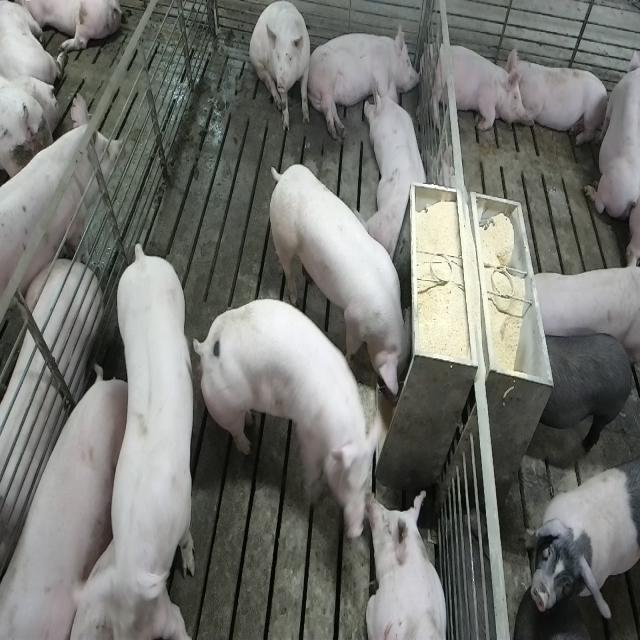Feeding: (194, 297, 383, 546), (272, 161, 420, 401)
Lateral_lying: (0, 261, 98, 607), (307, 21, 422, 142)
Sitting: (250, 1, 312, 134)
Standing: (73, 242, 199, 638), (0, 96, 121, 346), (527, 464, 638, 620), (530, 329, 637, 466), (524, 268, 637, 368)
Sternal_lying: (367, 491, 450, 640), (366, 74, 431, 259), (584, 34, 637, 230), (509, 51, 611, 149), (425, 37, 523, 135)
